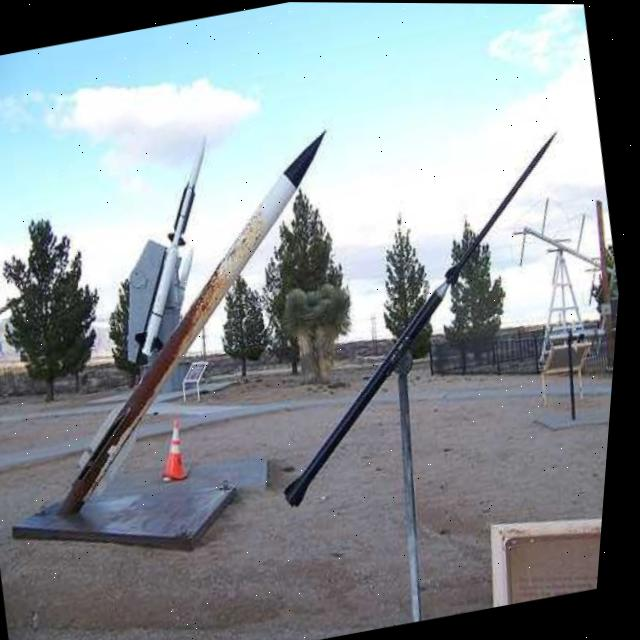missile: (2, 126, 394, 527), (235, 133, 615, 507), (93, 136, 247, 354)
